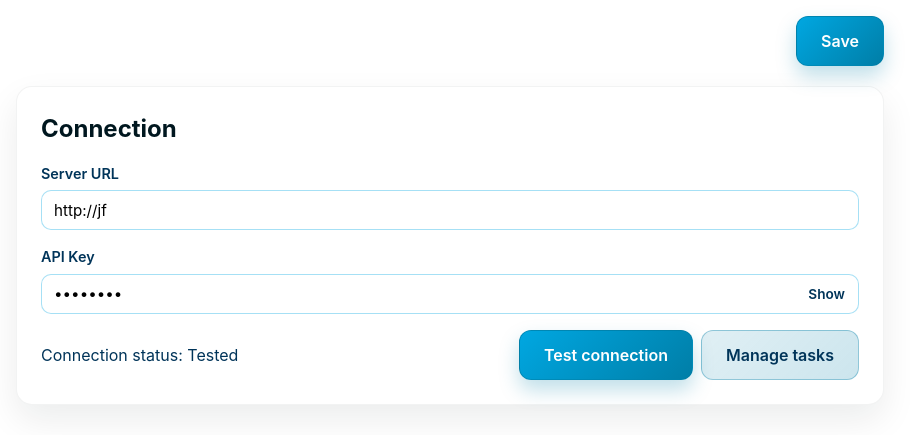
JellyfinSetup › reveals the stored API key when toggled
Click the button "Show".
click(827, 294)  # box x1=802 y1=282 x2=851 y2=305
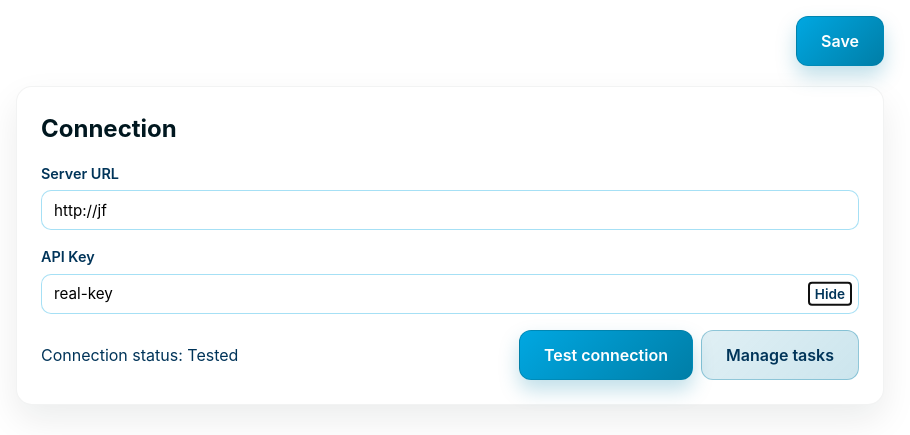
Expected: the field labelled "API Key" holds "real-key", x1=41 y1=274 x2=859 y2=314
